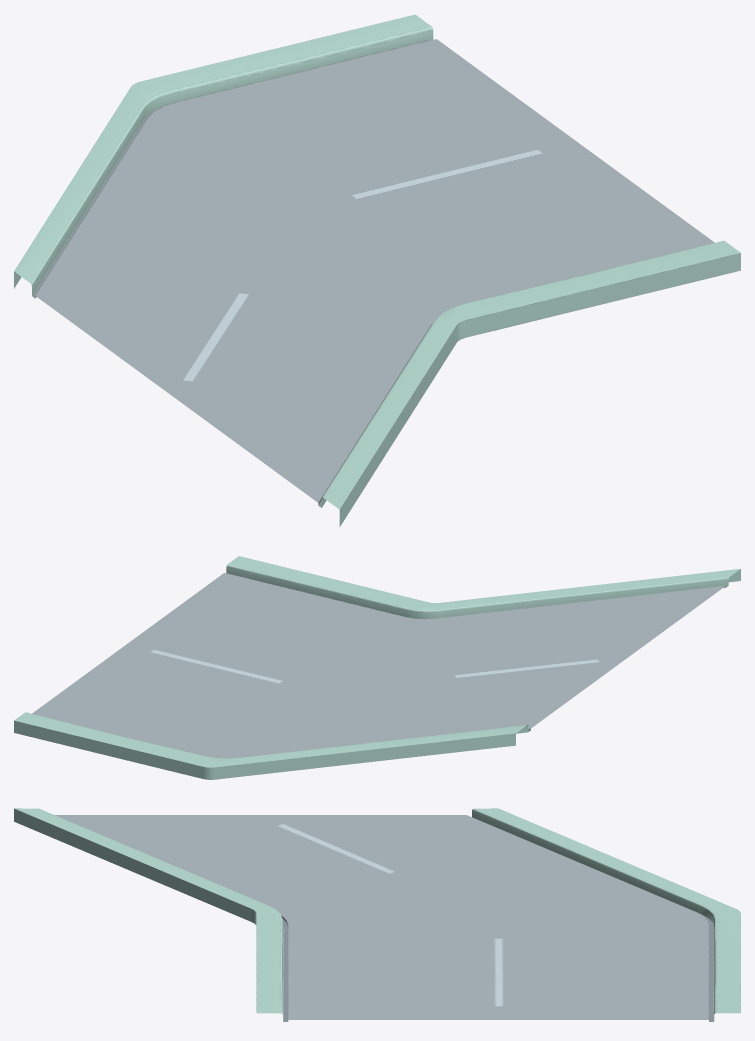
The model's file is 1-Ljoint.fbx.
The picture shows the model from 3 angles, top to bottom: view 1: azimuth 30°, elevation 25°; view 2: azimuth 150°, elevation 25°; view 3: azimuth 270°, elevation 25°; orthographic projection. The views are drawn at different scales.
Parts seen in each view (by area): view 1: pPlane18; view 2: pPlane18; view 3: pPlane18.
Part boxes in pixels (x1,y1,x2,y2): pPlane18: (14, 14, 740, 526); pPlane18: (14, 556, 740, 779); pPlane18: (14, 808, 740, 1021).
Bounding box in the file's own units: 2 × 0.0611 × 3.
Materials: 1 (1 with a texture image).
